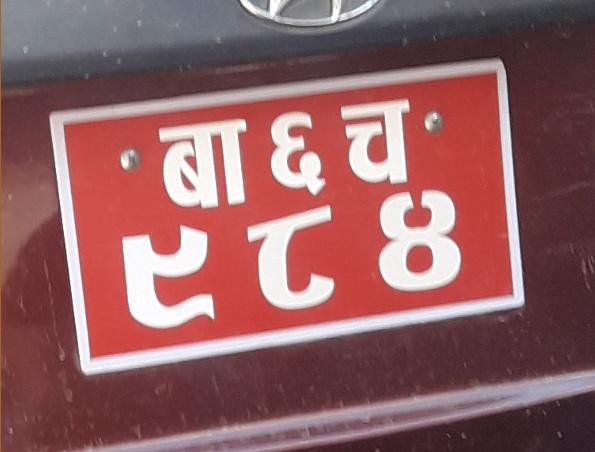4: (373, 185, 464, 293)
6: (265, 108, 332, 198)
8: (243, 202, 340, 314)
9: (116, 221, 220, 331)
ba: (153, 114, 253, 213)
cha: (336, 98, 415, 188)
